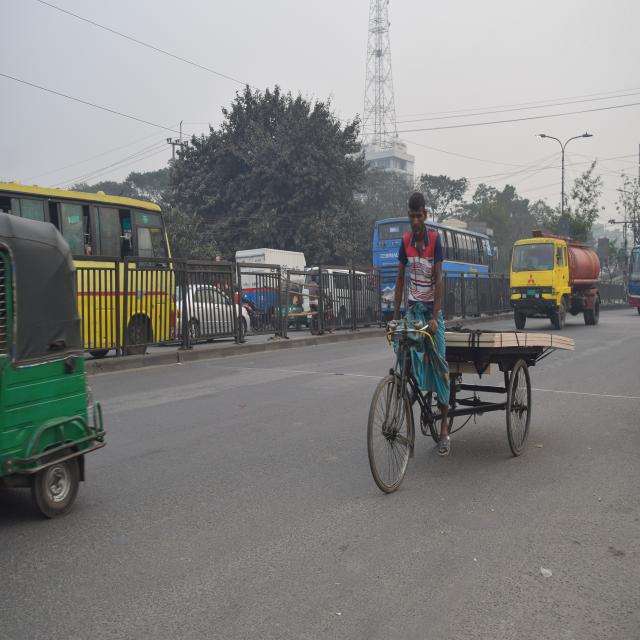bus: (3, 187, 176, 351), (373, 222, 494, 323)
car: (180, 285, 248, 341)
motorbike: (305, 280, 338, 328)
truck: (508, 232, 608, 328)
